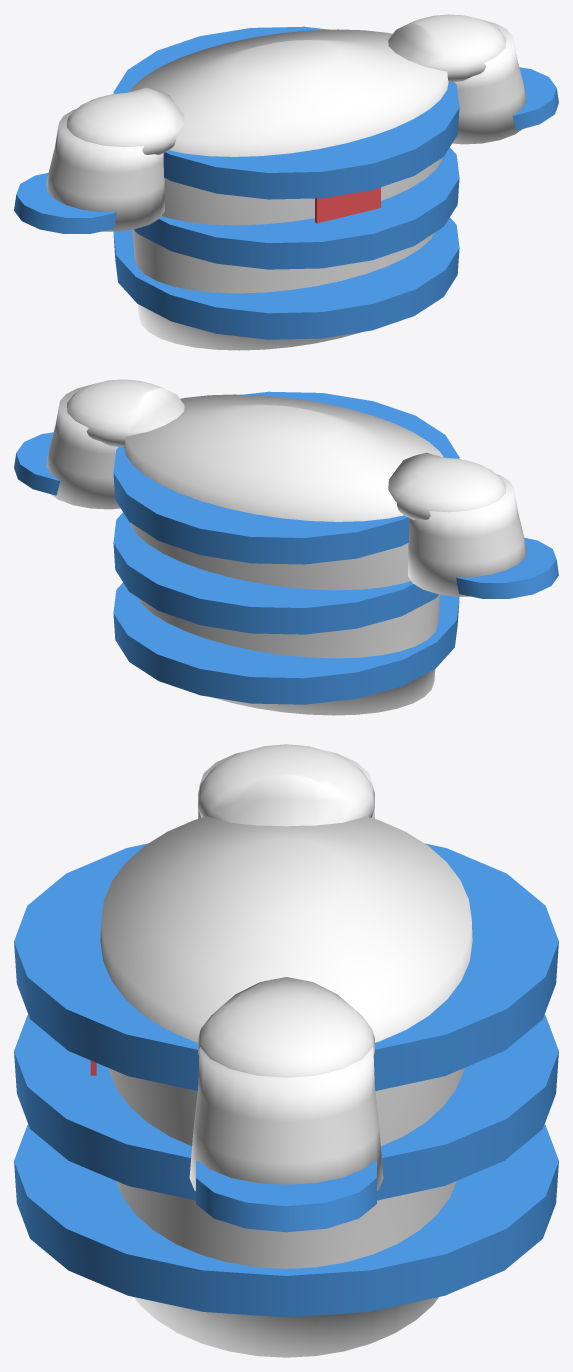
The model's file is top_fun_1.glb.
3 views of the same model, one above another, from view 1: azimuth 30°, elevation 25°; view 2: azimuth 150°, elevation 25°; view 3: azimuth 270°, elevation 25° (orthographic). The views are drawn at different scales.
Size of the model in its own units: 0.7397 by 0.3212 by 0.4211.
